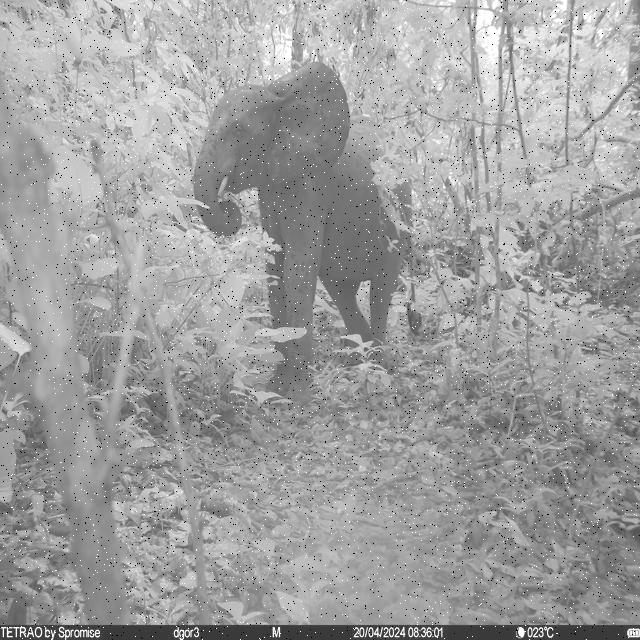ear: (268, 62, 350, 184)
elephant: (192, 61, 420, 406)
tusk: (215, 176, 228, 203)
